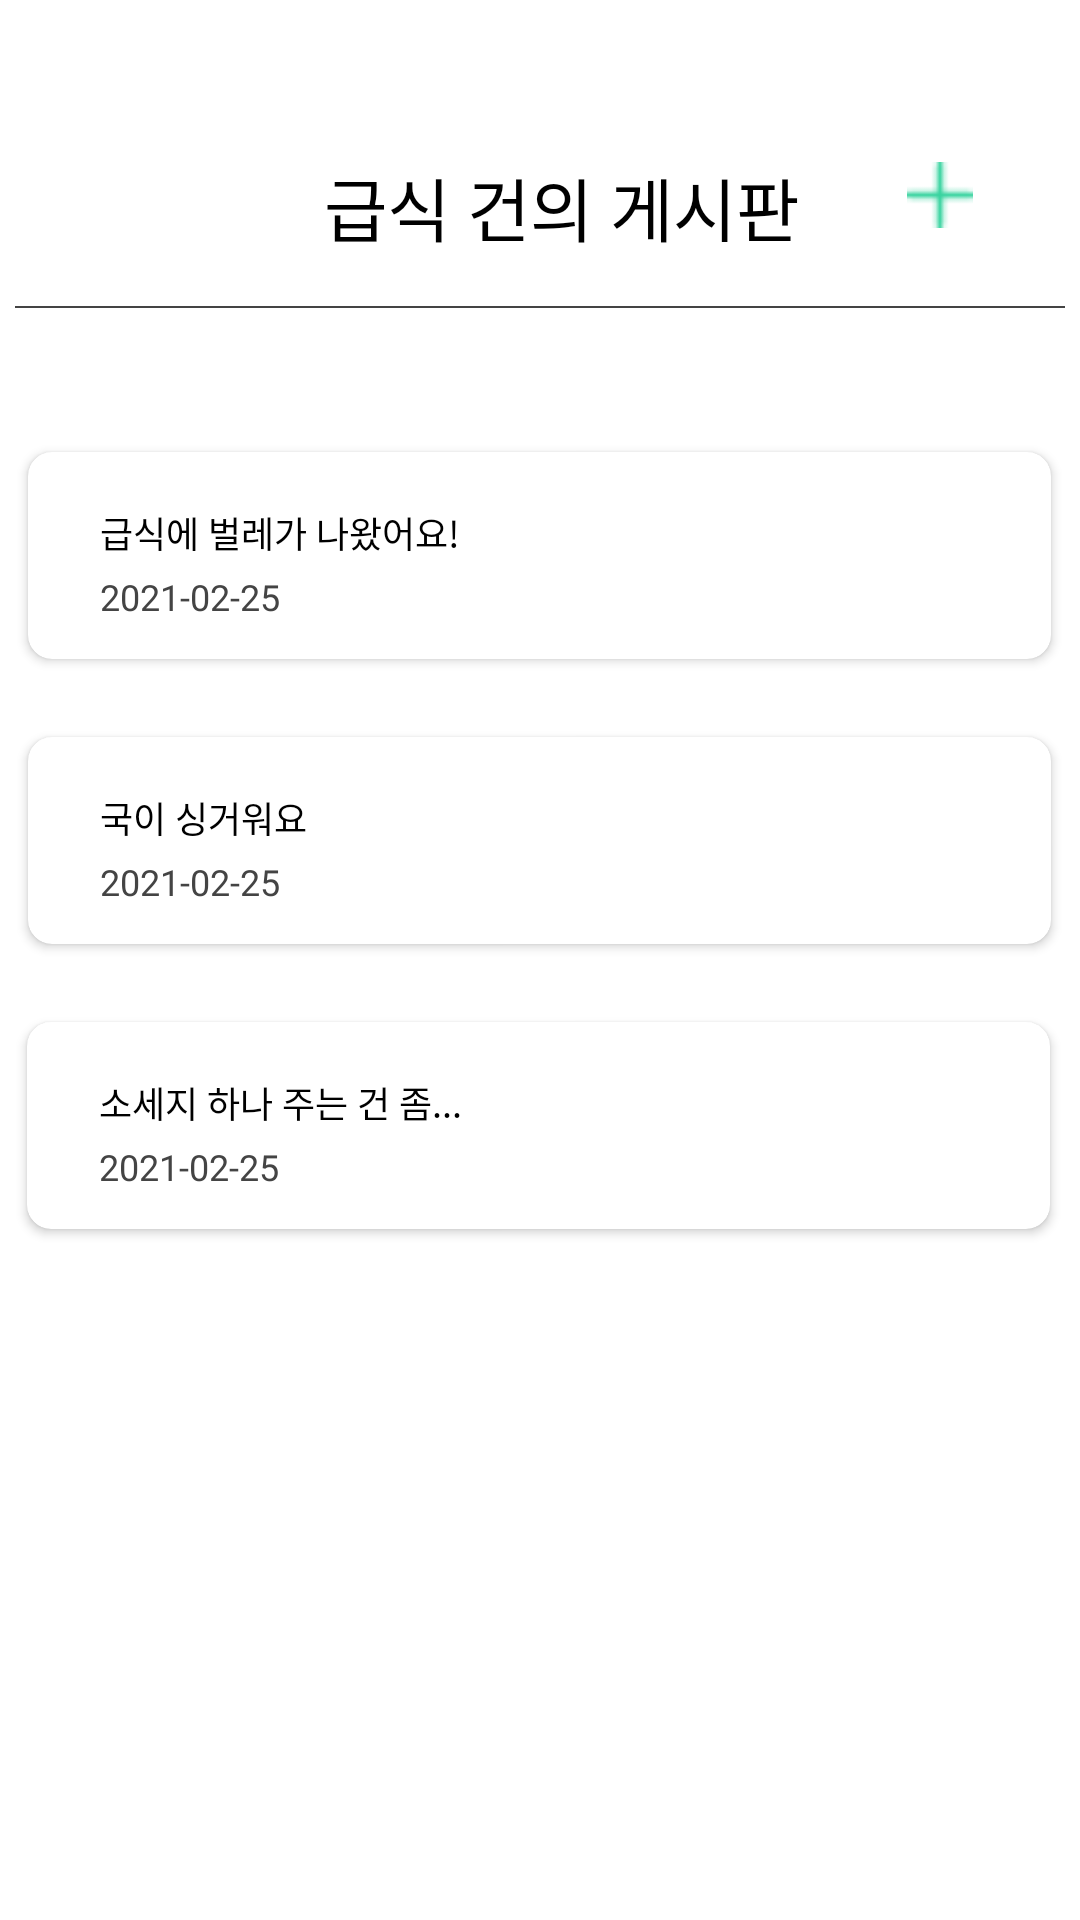

Locate icon controls on the screen. Image size 1080x1920, boxes as box=[x1, y1, x2, y2].
plus: box=[907, 162, 973, 228]
